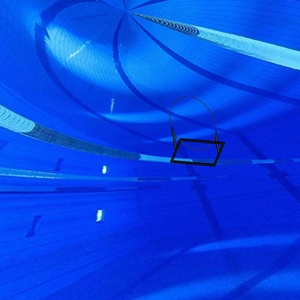circle: (163, 94, 232, 175)
